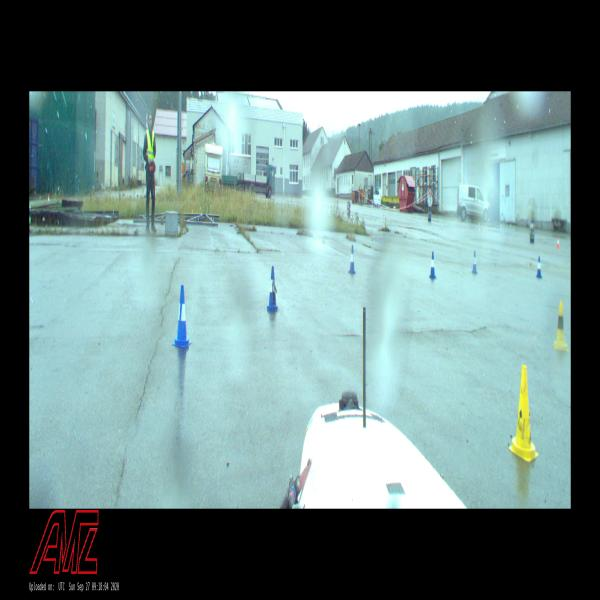blue_cone: (173, 285, 192, 348), (267, 266, 278, 312), (348, 245, 356, 275), (429, 251, 437, 279), (472, 250, 478, 274), (536, 256, 542, 278)
orange_cone: (557, 237, 560, 248)
yellow_cone: (508, 365, 538, 462), (553, 302, 569, 352)
